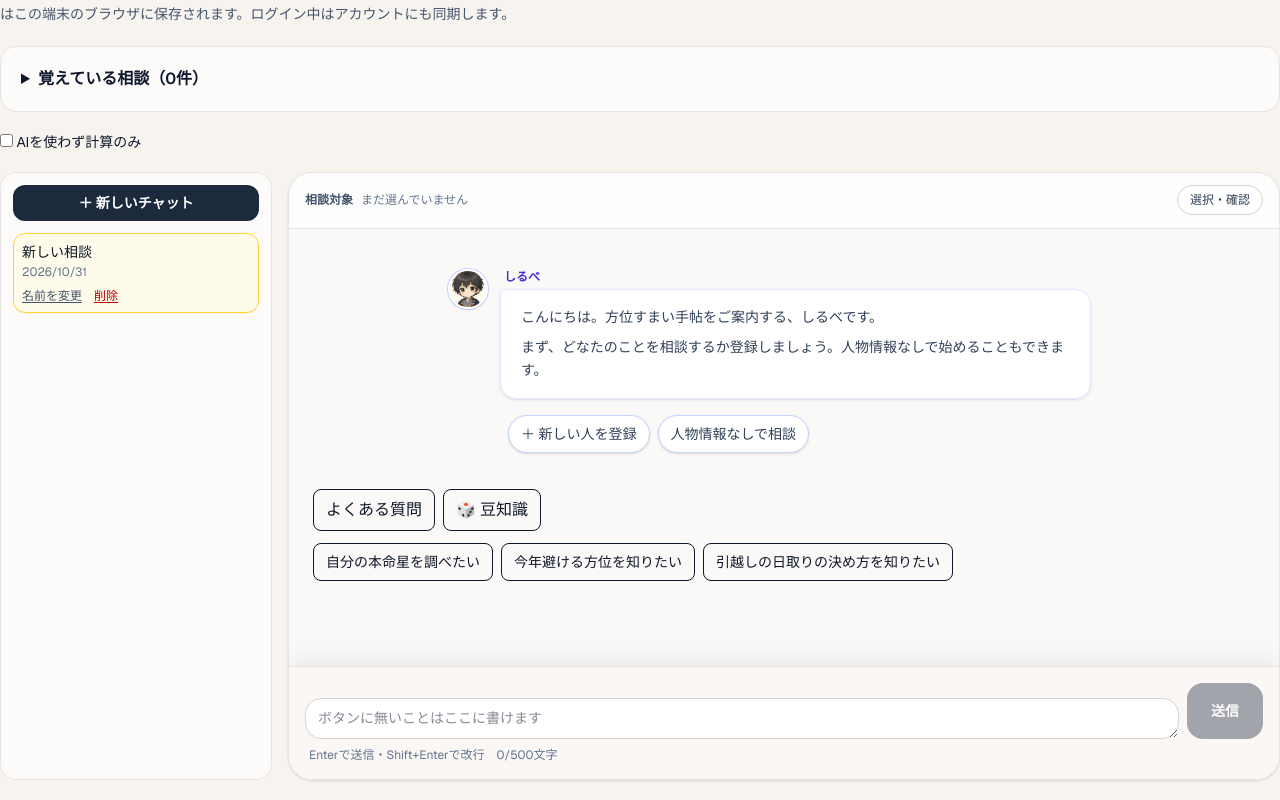
it: サーバーが保存を許可しない回答は相談メモにしない: false
The width and height of the screenshot is (1280, 800).
(page scrolled)
Type "引越しを相談したい" into the text box named "メッセージ".
click(742, 718); type("引越しを相談したい")  # box [305,698,1179,739]
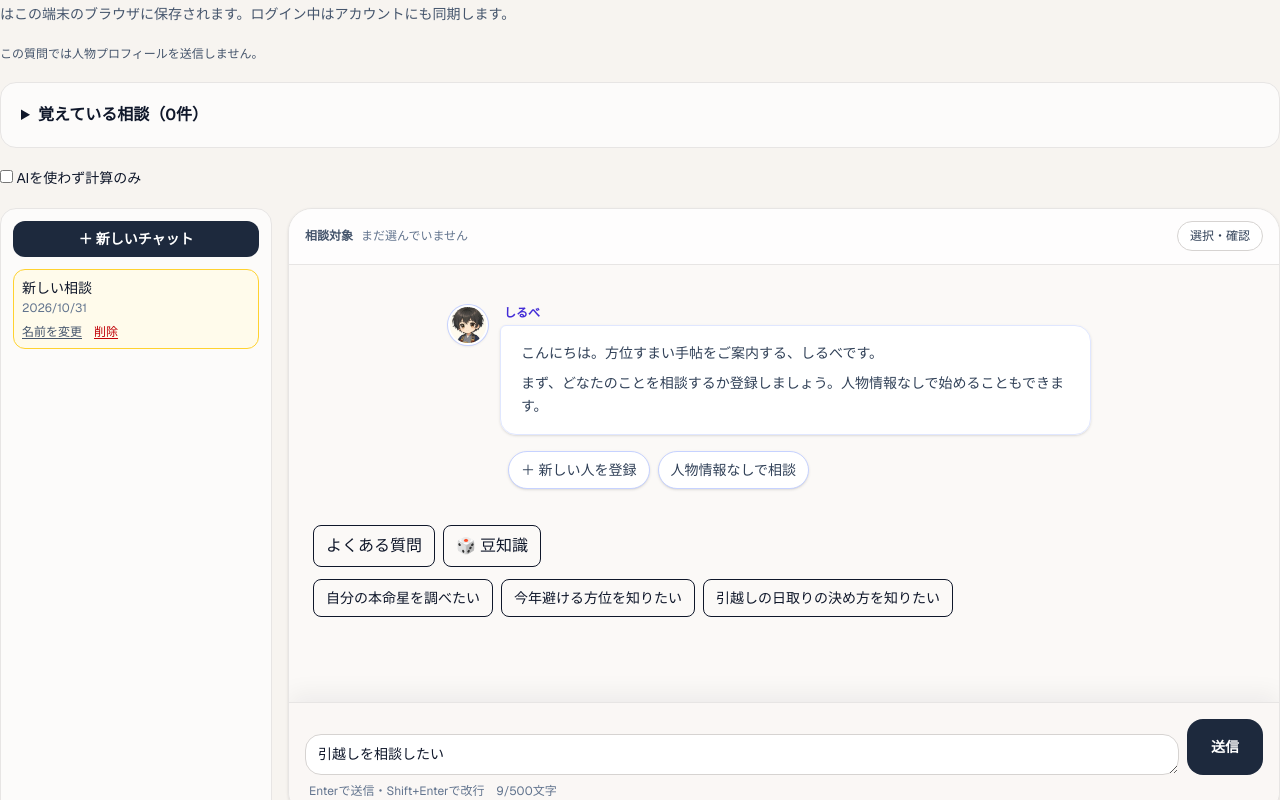
Click the button "送信".
click(1225, 746)  # box [1187,718,1263,774]
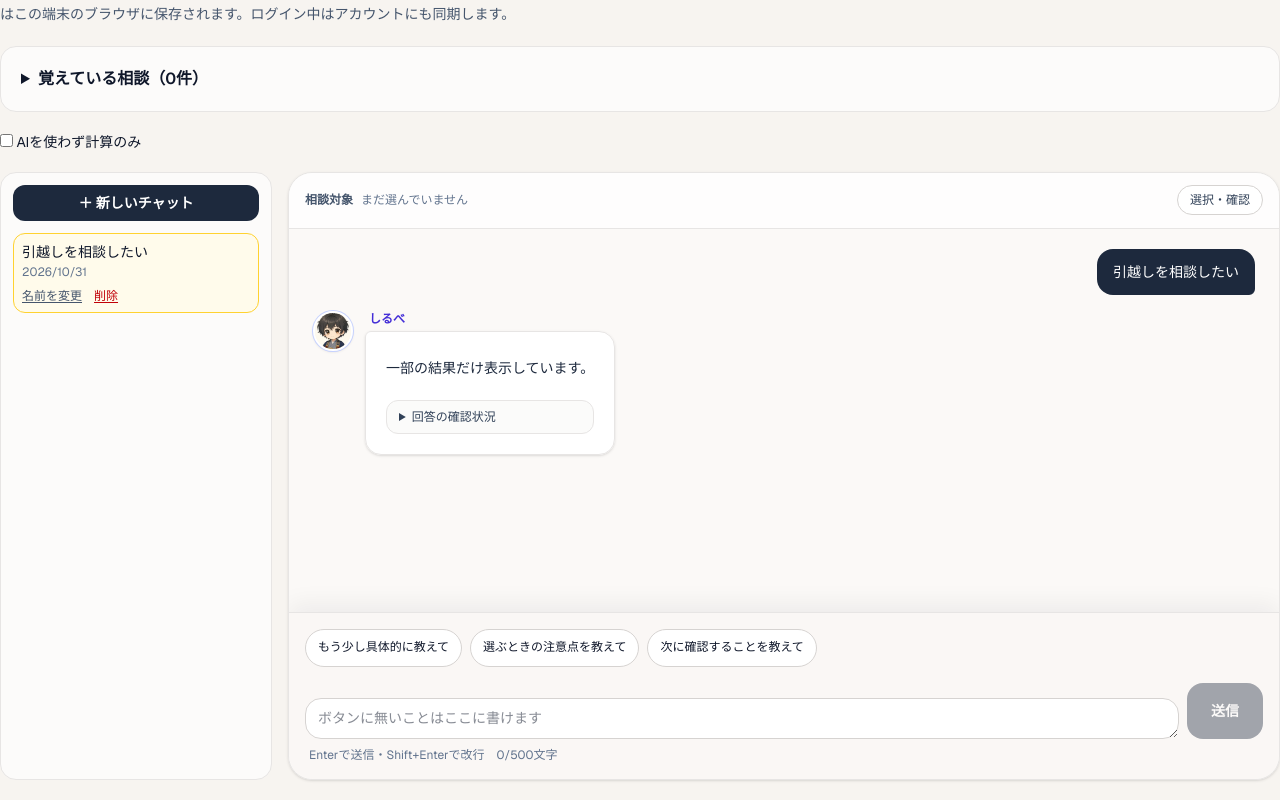
Check: the text "一部の結果だけ表示しています。" is shown, box [386,359,594,377]
